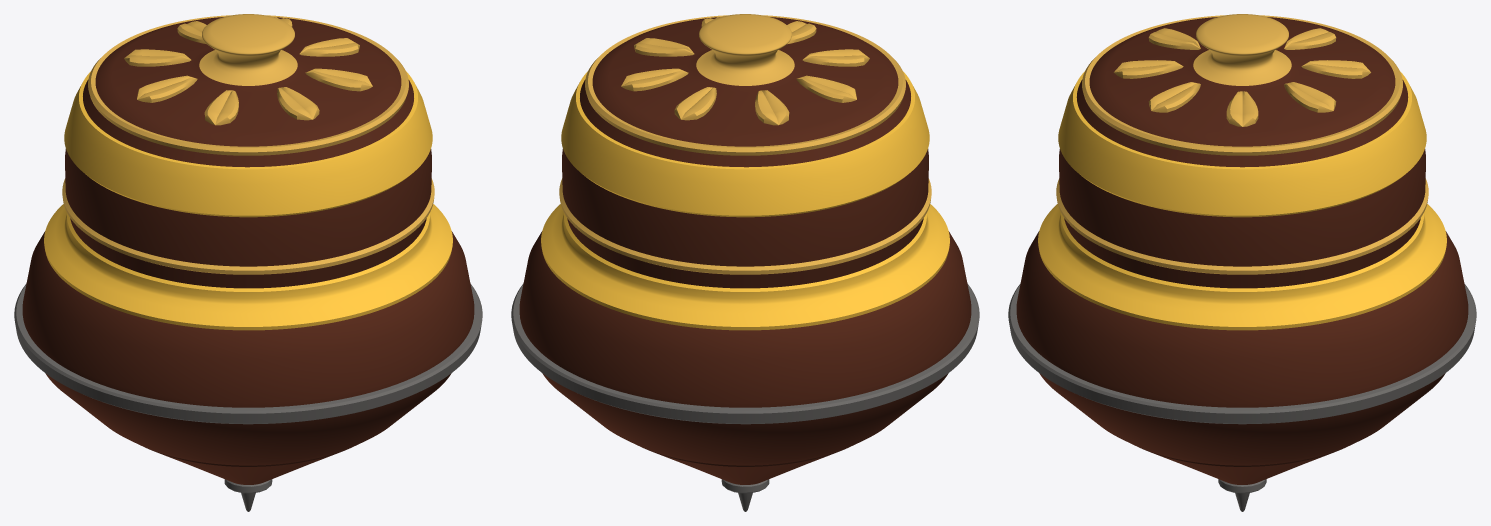
The model's file is gasing_penang.glb.
3 views of the same model, side by side, from view 1: azimuth 30°, elevation 25°; view 2: azimuth 150°, elevation 25°; view 3: azimuth 270°, elevation 25° (orthographic).
Visible parts, largest first — view 1: Gasing_penang; view 2: Gasing_penang; view 3: Gasing_penang.
Part boxes in pixels (x1,y1,x2,y2): Gasing_penang: (14, 14, 482, 511); Gasing_penang: (511, 14, 979, 511); Gasing_penang: (1008, 14, 1476, 511).
Size of the model in its own units: 0.88 by 1 by 0.88.
